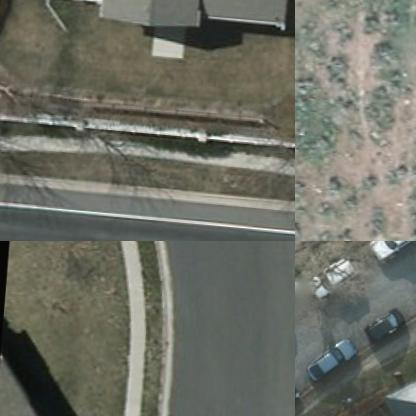car: (303, 330, 363, 390), (309, 249, 359, 297), (367, 305, 410, 342), (370, 241, 415, 261)
